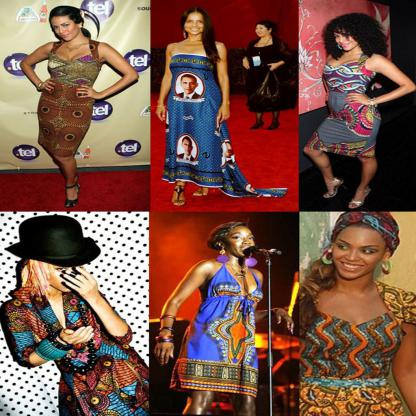face: (334, 233, 387, 280), (40, 258, 83, 292), (224, 230, 256, 258), (52, 19, 79, 41), (336, 30, 363, 51), (185, 15, 206, 35), (182, 79, 197, 94), (183, 141, 193, 156), (257, 26, 269, 38)
